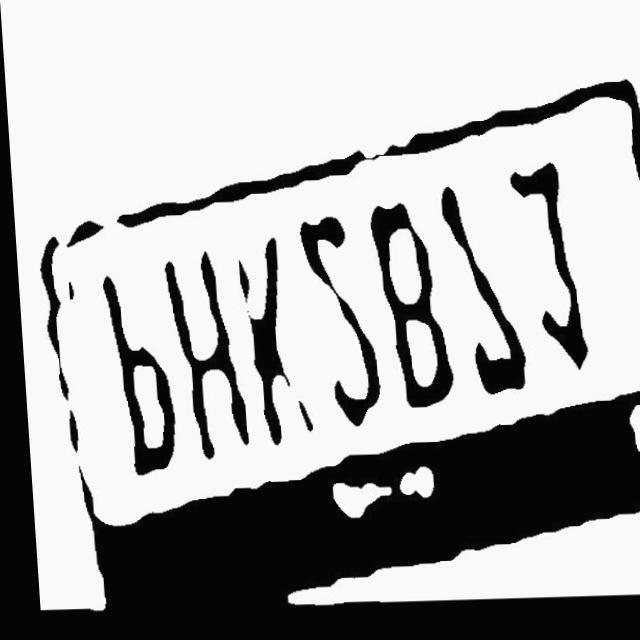1: (513, 162, 591, 382)
2: (295, 210, 381, 438)
7: (443, 181, 521, 408)
b: (365, 199, 449, 417)
h: (161, 246, 245, 465)
k: (228, 232, 304, 452)
p: (99, 269, 178, 482)
